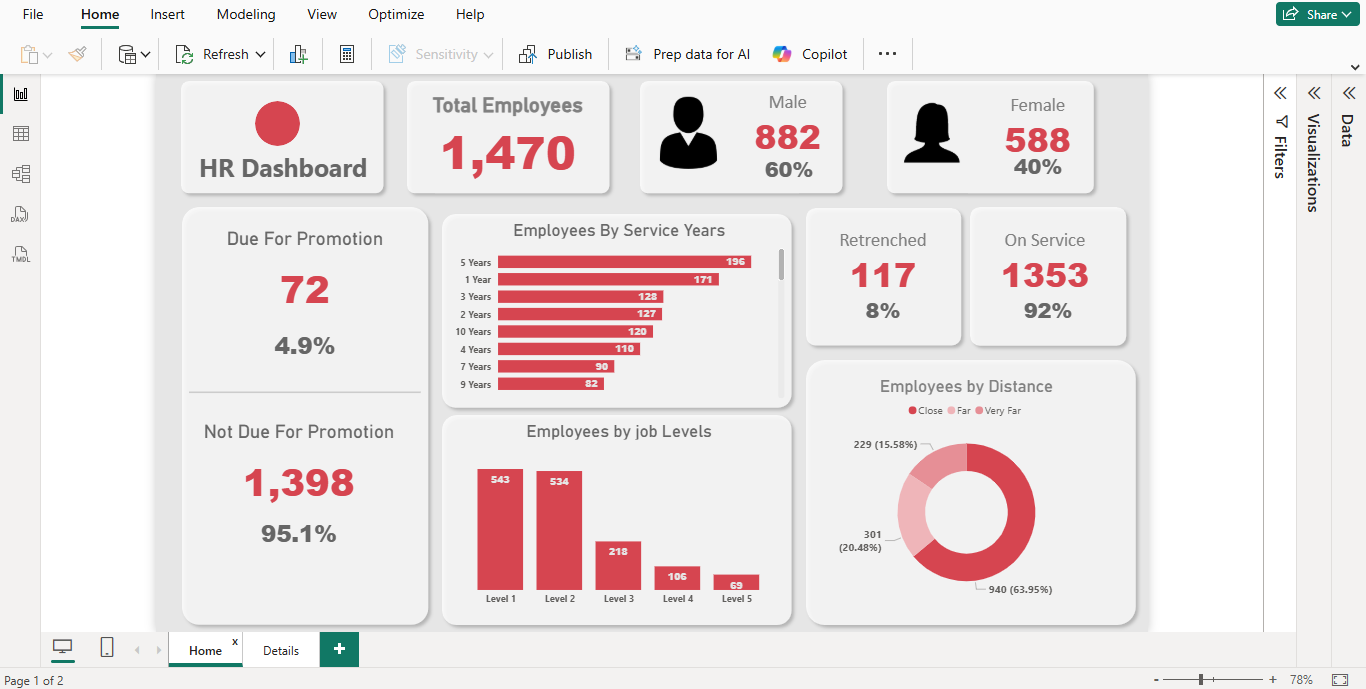

This screenshot's page, from the dashboard's own definition file:
{"tool":"powerbi","page":{"name":" Home","canvas":[1280,720],"ordinal":0},"visuals":[{"type":"shape","box":[23.5,0,279.2,163],"z":1000},{"type":"shape","box":[315.4,0,279.2,163],"z":2000},{"type":"shape","box":[615.9,0,279.2,163],"z":3000},{"type":"shape","box":[934,0,284.9,163],"z":4000},{"type":"shape","box":[24.1,163,335.9,557],"z":5000},{"type":"shape","box":[360,171.5,469.1,267.9],"z":6000},{"type":"shape","box":[360,430.9,469.1,289.1],"z":7000},{"type":"shape","box":[829.1,164.4,218.3,195.6],"z":8000},{"type":"shape","box":[1041.7,163,219.7,197],"z":9000},{"type":"shape","box":[829.1,360,443.6,360],"z":10000},{"type":"textbox","box":[24.1,93.5,279.2,58.1],"z":11000},{"type":"shape","box":[127.6,35.4,58.1,58.1],"z":12000},{"type":"card","title":"Total Employees","fields":{"Values":["_Measures.Total Emp"]},"box":[304.7,24.1,299.1,116.2],"z":13000},{"type":"card","title":"Male","fields":{"Values":["_Measures.Male"]},"box":[755.4,21.3,120.5,87.9],"z":14000},{"type":"card","title":"Male","fields":{"Values":["_Measures.% Male"]},"box":[761.1,79.4,110.6,87.9],"z":15000},{"type":"card","title":"Female","fields":{"Values":["_Measures.Female"]},"box":[1077.2,24.1,120.5,87.9],"z":16000},{"type":"card","title":"Male","fields":{"Values":["_Measures.% Female"]},"box":[1082.8,76.5,110.6,87.9],"z":17000},{"type":"image","box":[640.6,28.3,93.5,95],"z":18000},{"type":"image","box":[952.4,29.8,93.5,93.5],"z":19000},{"type":"card","title":"Due For Promotion","fields":{"Values":["_Measures.Due For Promotion"]},"box":[42.5,198.4,299.1,127.6],"z":20000},{"type":"card","fields":{"Values":["_Measures.% Due"]},"box":[42.5,297.6,299.1,104.9],"z":21000},{"type":"card","title":"Not Due For Promotion","fields":{"Values":["_Measures.Not Due"]},"box":[35.4,447.9,299.1,127.6],"z":22000},{"type":"card","fields":{"Values":["_Measures.% Not Due"]},"box":[35.4,540,299.1,104.9],"z":23000},{"type":"shape","box":[42.5,406.8,299.1,8.5],"z":24000},{"type":"barChart","title":"Employees By Service Years","fields":{"Category":["HR Analytics Data.Service Years"],"Y":["_Measures.Total Emp"]},"box":[379.8,188.5,436.5,235.3],"z":25000},{"type":"columnChart","title":"Employees by job Levels","fields":{"Category":["HR Analytics Data.job Levels"],"Y":["_Measures.Total Emp"]},"box":[379.8,447.9,436.5,248],"z":26000},{"type":"card","title":"Retrenched","fields":{"Values":["_Measures.Retrenched"]},"box":[839.1,198.4,198.4,87.9],"z":27000},{"type":"card","title":"Male","fields":{"Values":["_Measures.% Retrenched"]},"box":[883,262.2,110.6,87.9],"z":28000},{"type":"card","title":"On Service","fields":{"Values":["_Measures.On Service"]},"box":[1047.4,198.4,198.4,87.9],"z":29000},{"type":"card","title":"Male","fields":{"Values":["_Measures.% On Service"]},"box":[1095.6,262.2,110.6,87.9],"z":30000},{"type":"donutChart","title":"Employees by Distance","fields":{"Category":["HR Analytics Data.Distance"],"Y":["_Measures.Total Emp"]},"box":[844.7,389.8,401.1,299.1],"z":31000}]}

Visuals, with their boxes on the page's 1280x720 design canvas (x1, y1, x2, y2). These are canvas units, not pixel positions in the 1366x689 screenshot, which may show the page scaled, cropped or inside an application window:
shape: 24, 0, 303, 163
shape: 315, 0, 595, 163
shape: 616, 0, 895, 163
shape: 934, 0, 1219, 163
shape: 24, 163, 360, 720
shape: 360, 172, 829, 439
shape: 360, 431, 829, 720
shape: 829, 164, 1047, 360
shape: 1042, 163, 1261, 360
shape: 829, 360, 1273, 720
textbox: 24, 94, 303, 152
shape: 128, 35, 186, 94
"Total Employees" card: 305, 24, 604, 140
"Male" card: 755, 21, 876, 109
"Male" card: 761, 79, 872, 167
"Female" card: 1077, 24, 1198, 112
"Male" card: 1083, 76, 1193, 164
image: 641, 28, 734, 123
image: 952, 30, 1046, 123
"Due For Promotion" card: 42, 198, 342, 326
card - _Measures.% Due: 42, 298, 342, 402
"Not Due For Promotion" card: 35, 448, 334, 576
card - _Measures.% Not Due: 35, 540, 334, 645
shape: 42, 407, 342, 415
"Employees By Service Years" barChart: 380, 188, 816, 424
"Employees by job Levels" columnChart: 380, 448, 816, 696
"Retrenched" card: 839, 198, 1038, 286
"Male" card: 883, 262, 994, 350
"On Service" card: 1047, 198, 1246, 286
"Male" card: 1096, 262, 1206, 350
"Employees by Distance" donutChart: 845, 390, 1246, 689
